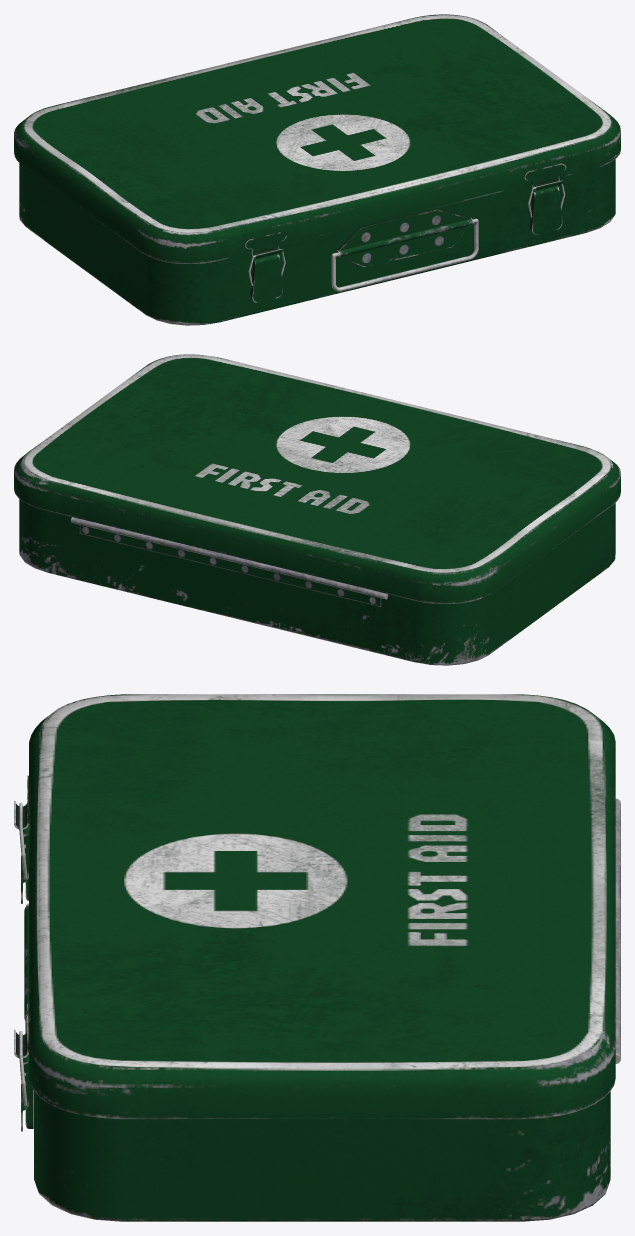
The model's file is medical_box.glb.
3 views of the same model, one above another, from view 1: azimuth 30°, elevation 25°; view 2: azimuth 150°, elevation 25°; view 3: azimuth 270°, elevation 25° (orthographic). The views are drawn at different scales.
Parts seen in each view (by area): view 1: medical_box_lid, medical_box, medical_box_latch, medical_box_handle; view 2: medical_box_lid, medical_box; view 3: medical_box_lid, medical_box.
Part boxes in pixels (x1,y1,x2,y2): medical_box_lid: (14, 14, 620, 263); medical_box: (19, 159, 615, 325); medical_box_latch: (251, 185, 562, 302); medical_box_handle: (331, 218, 478, 291); medical_box_lid: (14, 354, 620, 603); medical_box: (19, 499, 615, 665); medical_box_lid: (14, 694, 615, 1118); medical_box: (24, 798, 620, 1221).
Size of the model in its own units: 0.5255 by 0.0975 by 0.3502.
1 material, 1 textured.
